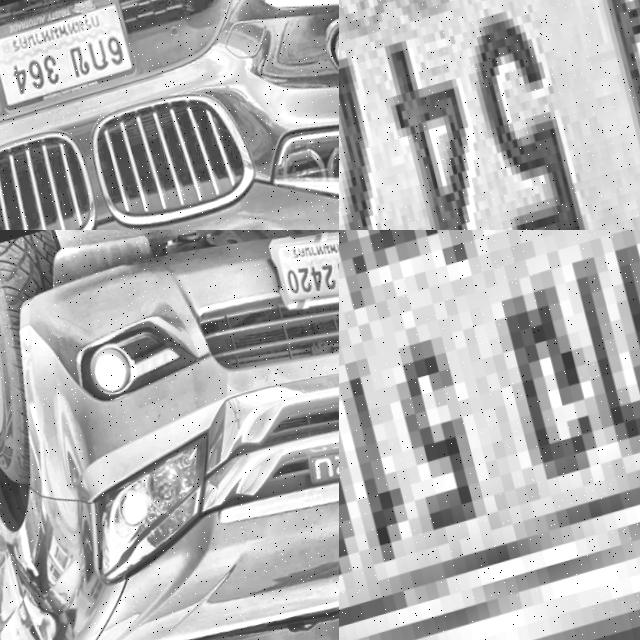license-plate: (339, 230, 640, 640), (339, 0, 640, 230), (0, 0, 139, 118), (263, 230, 339, 333)
